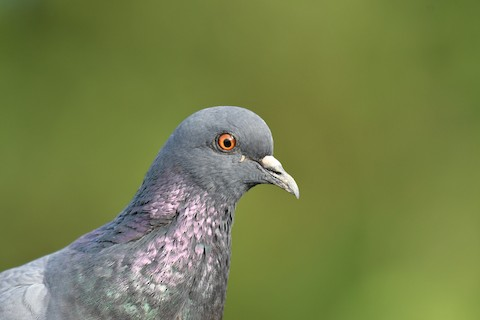pigeon: (4, 104, 309, 313)
